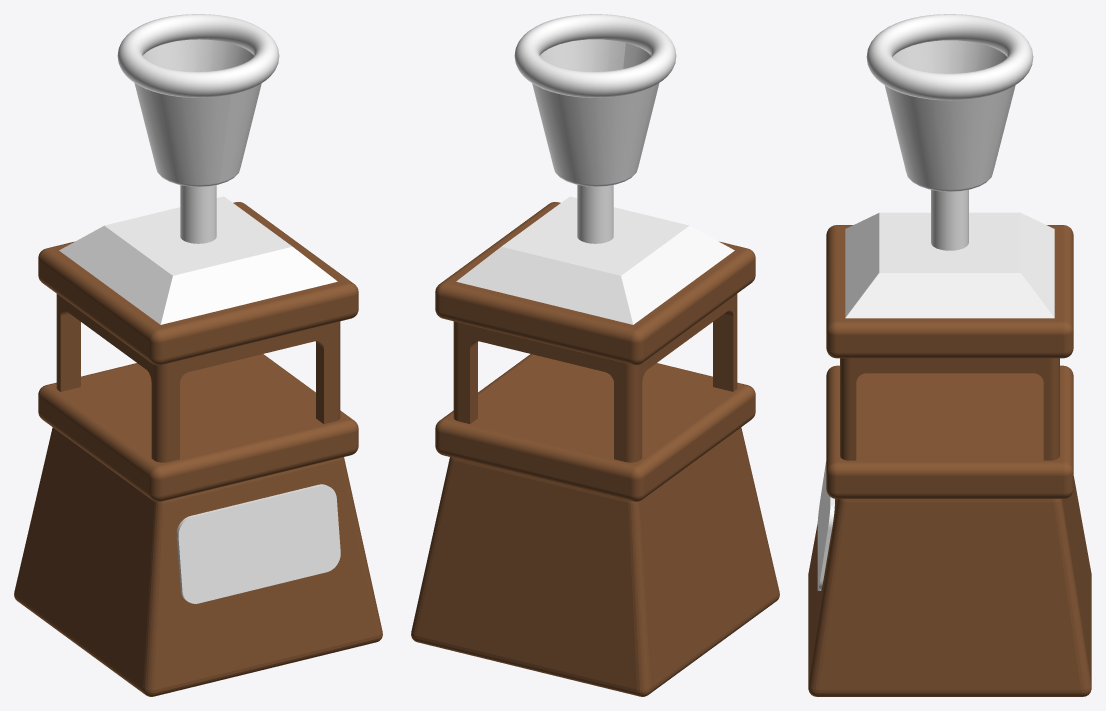
Rendered from trophy-cup.glb.
The picture shows the model from 3 angles, left to right: view 1: azimuth 30°, elevation 25°; view 2: azimuth 150°, elevation 25°; view 3: azimuth 270°, elevation 25°; orthographic projection. The views are drawn at different scales.
Visible parts, largest first — view 1: box, box.2, metal2, box.4, metal1, metal4, box.3, metal5, metal3; view 2: box, box.2, metal2, box.4, metal4, box.3, metal5, metal3; view 3: box, box.2, metal2, box.4, metal4, metal5, box.3, metal3, metal1.
Part boxes in pixels (box(x1,y1,x2,y2)): box: box(14, 427, 382, 696); box.2: box(38, 354, 358, 501); metal2: box(59, 196, 337, 324); box.4: box(38, 202, 358, 365); metal1: box(176, 484, 340, 603); metal4: box(134, 39, 261, 186); box.3: box(56, 294, 340, 462); metal5: box(117, 14, 279, 97); metal3: box(180, 185, 216, 243); box: box(411, 427, 779, 696); box.2: box(435, 354, 755, 501); metal2: box(456, 196, 734, 324); box.4: box(435, 202, 755, 365); metal4: box(532, 39, 659, 186); box.3: box(453, 294, 737, 462); metal5: box(514, 14, 676, 97); metal3: box(577, 185, 613, 243); box: box(808, 476, 1091, 696); box.2: box(826, 365, 1073, 498); metal2: box(845, 212, 1054, 318); box.4: box(826, 225, 1073, 358); metal4: box(884, 40, 1015, 191); metal5: box(866, 14, 1033, 100); box.3: box(840, 358, 1059, 460); metal3: box(931, 189, 968, 250); metal1: box(817, 461, 834, 590).
Bounding box in the file's own units: 0.7908 × 1.83 × 0.7908.
